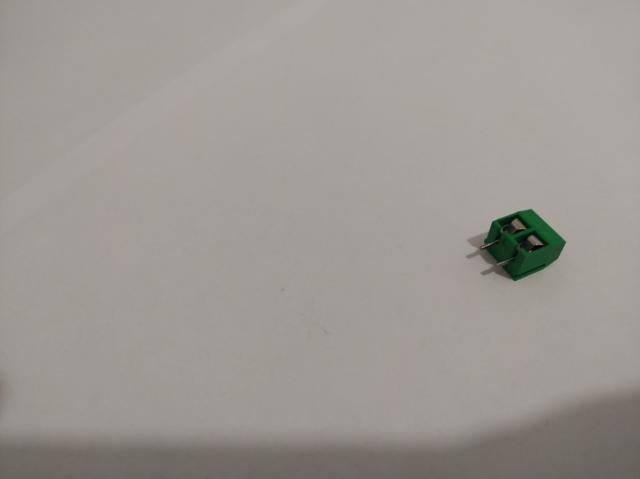terminal_block: (480, 208, 566, 282)
